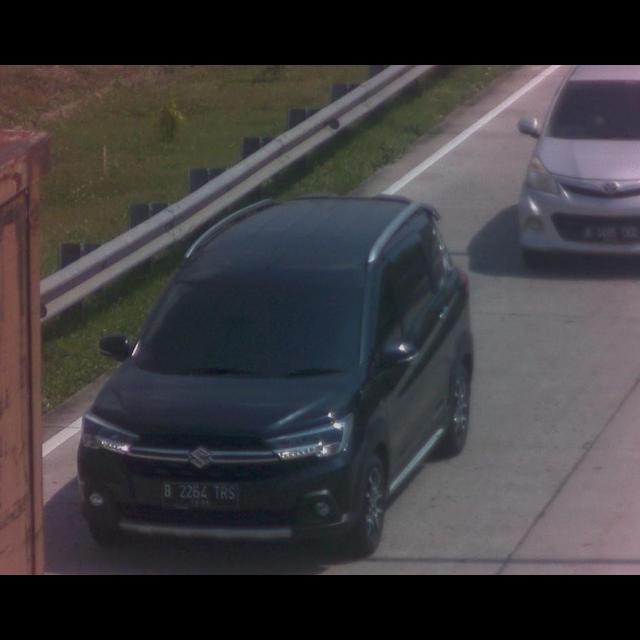plate: (162, 481, 240, 512)
